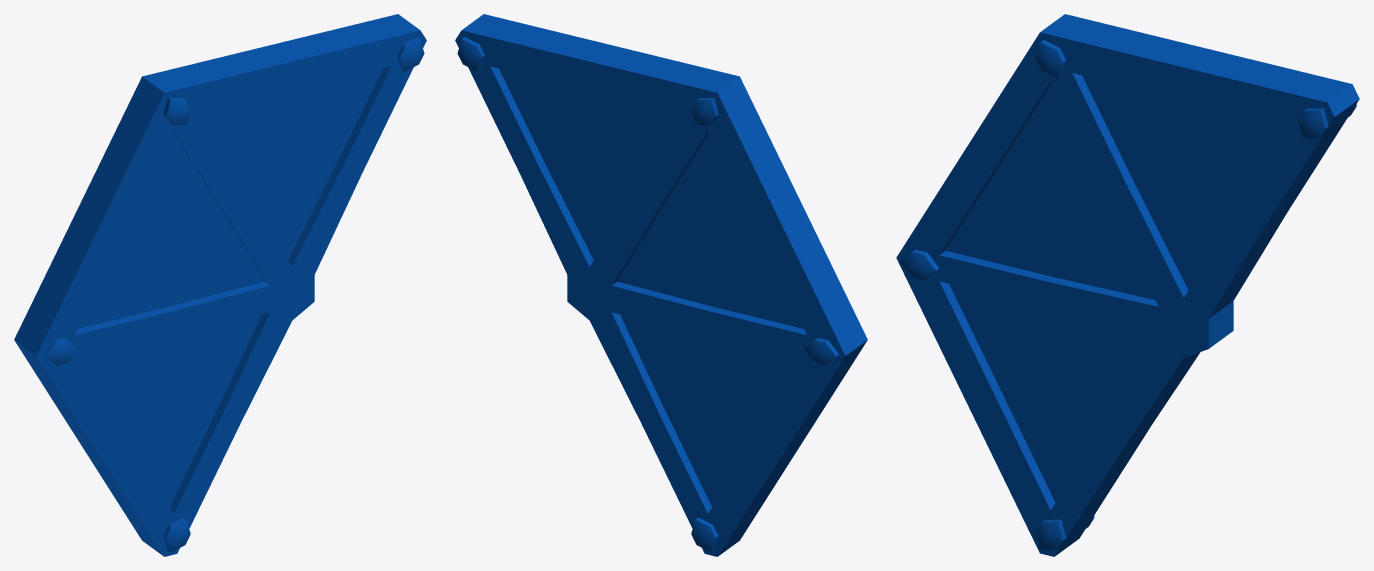
File: Gate_003.FBX
The picture shows the model from 3 angles, left to right: view 1: azimuth 30°, elevation 25°; view 2: azimuth 150°, elevation 25°; view 3: azimuth 330°, elevation 25°; orthographic projection. The views are drawn at different scales.
Visible parts, largest first — view 1: Cylinder005; view 2: Cylinder005; view 3: Cylinder005.
Part boxes in pixels (bbox=[...]): Cylinder005: bbox=[14, 14, 426, 556]; Cylinder005: bbox=[455, 14, 867, 556]; Cylinder005: bbox=[896, 14, 1359, 556].
Bounding box in the file's own units: 369 × 420 × 53.87.
